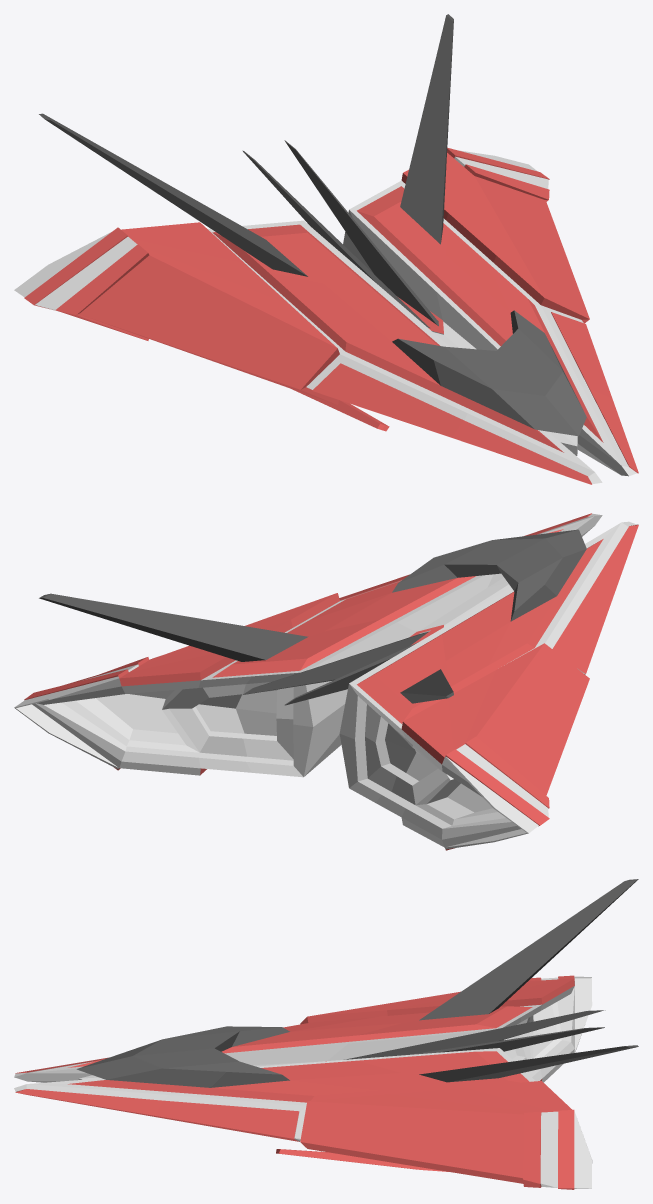
File: ship_25.fbx
The picture shows the model from 3 angles, top to bottom: view 1: azimuth 30°, elevation 25°; view 2: azimuth 150°, elevation 25°; view 3: azimuth 270°, elevation 25°; orthographic projection. The views are drawn at different scales.
Visible parts, largest first — view 1: ship_25; view 2: ship_25; view 3: ship_25.
Boxes of the visible parts, bbox=[...] form: ship_25: bbox=[14, 14, 638, 484]; ship_25: bbox=[14, 513, 638, 850]; ship_25: bbox=[14, 879, 638, 1189].
Size of the model in its own units: 1641 by 633 by 2051.
